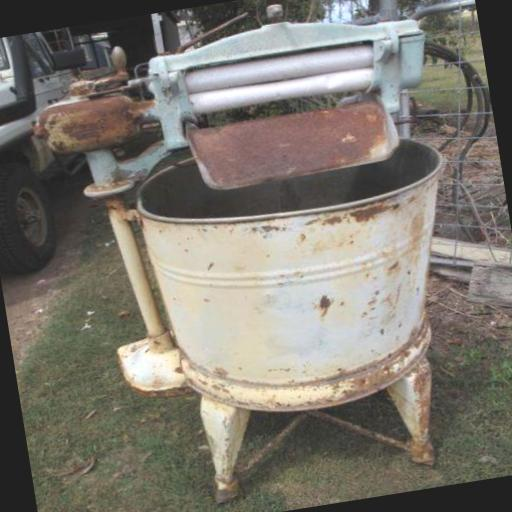segmentation: (188, 100, 398, 188), (239, 409, 411, 476), (326, 317, 428, 398), (36, 94, 152, 150), (309, 409, 411, 454), (350, 201, 398, 220), (319, 295, 330, 312)
